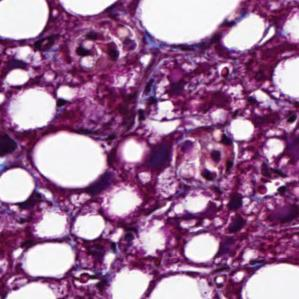inflammation: (195, 130, 238, 183), (73, 28, 124, 64), (253, 159, 296, 201)
